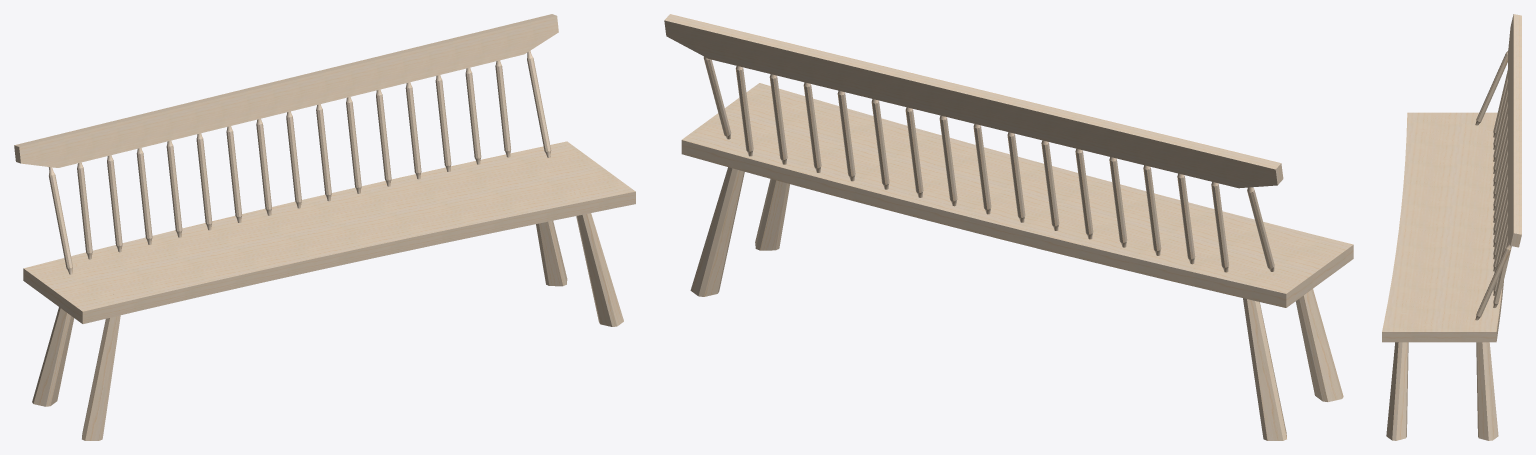
The model's file is Banc_Youri.glb.
3 renders of one model, left to right at view 1: azimuth 30°, elevation 25°; view 2: azimuth 150°, elevation 25°; view 3: azimuth 270°, elevation 25°, orthographic. The views are drawn at different scales.
Visible parts, largest first — view 1: Plateau-1, Dossier-1, Pied-1, Pied-6, Pied-5, Pied-2, Bar_dossier-16, Bar_dossier-17, Bar_dossier-5, Bar_dossier-7, Bar_dossier-14, Bar_dossier-3 (+11 smaller); view 2: Plateau-1, Dossier-1, Pied-2, Pied-5, Pied-6, Pied-1, Bar_dossier-5, Bar_dossier-4, Bar_dossier-10, Bar_dossier-12, Bar_dossier-8, Bar_dossier-9 (+11 smaller); view 3: Plateau-1, Dossier-1, Pied-1, Pied-2, Bar_dossier-17, Bar_dossier-16, Bar_dossier-15, Bar_dossier-1, Bar_dossier-11, Bar_dossier-12, Bar_dossier-6, Bar_dossier-7 (+8 smaller).
Part boxes in pixels (left/top/right/bottom): Plateau-1: left=23, top=141, right=635, bottom=323; Dossier-1: left=14, top=14, right=558, bottom=167; Pied-1: left=573, top=191, right=623, bottom=326; Pied-6: left=82, top=291, right=121, bottom=440; Pied-5: left=32, top=263, right=82, bottom=406; Pied-2: left=527, top=157, right=567, bottom=286; Bar_dossier-16: left=48, top=167, right=72, bottom=274; Bar_dossier-17: left=527, top=50, right=551, bottom=157; Bar_dossier-5: left=196, top=133, right=212, bottom=230; Bar_dossier-7: left=256, top=118, right=271, bottom=215; Bar_dossier-14: left=465, top=67, right=481, bottom=164; Bar_dossier-3: left=136, top=148, right=152, bottom=244; Plateau-1: left=681, top=83, right=1353, bottom=307; Dossier-1: left=664, top=14, right=1283, bottom=188; Pied-2: left=690, top=142, right=745, bottom=296; Pied-5: left=1241, top=271, right=1286, bottom=440; Pied-6: left=1286, top=238, right=1343, bottom=401; Pied-1: left=755, top=104, right=800, bottom=250; Bar_dossier-5: left=1075, top=148, right=1093, bottom=239; Bar_dossier-4: left=1109, top=157, right=1127, bottom=247; Bar_dossier-10: left=905, top=107, right=923, bottom=197; Bar_dossier-12: left=837, top=90, right=855, bottom=181; Bar_dossier-8: left=973, top=124, right=991, bottom=214; Bar_dossier-9: left=939, top=115, right=957, bottom=206; Plateau-1: left=1382, top=112, right=1503, bottom=342; Dossier-1: left=1508, top=14, right=1521, bottom=247; Pied-1: left=1386, top=312, right=1408, bottom=440; Pied-2: left=1476, top=312, right=1498, bottom=440; Bar_dossier-17: left=1475, top=244, right=1511, bottom=320; Bar_dossier-16: left=1475, top=50, right=1508, bottom=125; Bar_dossier-15: left=1493, top=240, right=1511, bottom=307; Bar_dossier-1: left=1493, top=70, right=1507, bottom=137; Bar_dossier-11: left=1493, top=191, right=1507, bottom=259; Bar_dossier-12: left=1493, top=204, right=1507, bottom=271; Bar_dossier-6: left=1493, top=131, right=1507, bottom=198; Bar_dossier-7: left=1493, top=143, right=1507, bottom=210.
Size of the model in its own units: 1.8 by 0.803 by 0.4858.
4 materials, 4 textured.
